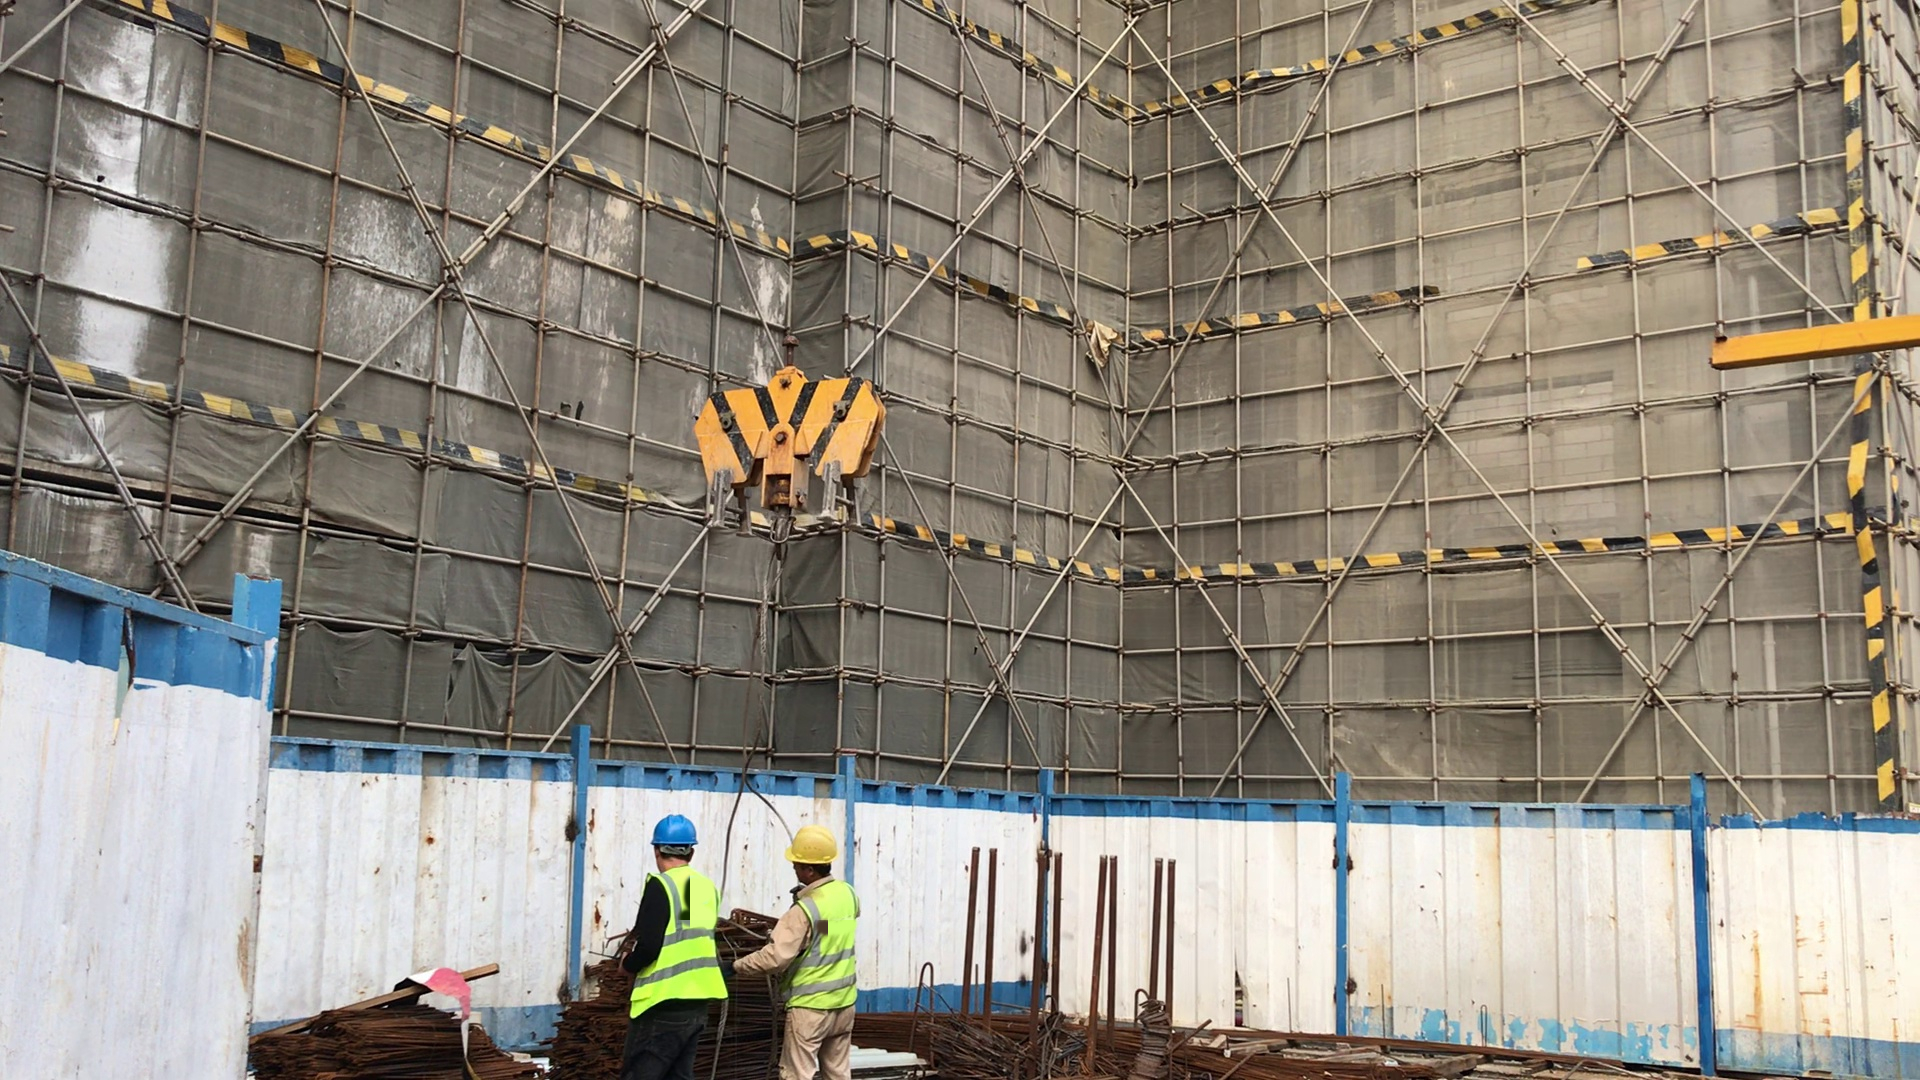helmet: (782, 819, 848, 868), (645, 811, 703, 850)
hook: (694, 367, 881, 544)
person: (608, 808, 743, 1079), (751, 827, 892, 1080)
vest: (628, 866, 728, 1005), (785, 883, 865, 1008)
